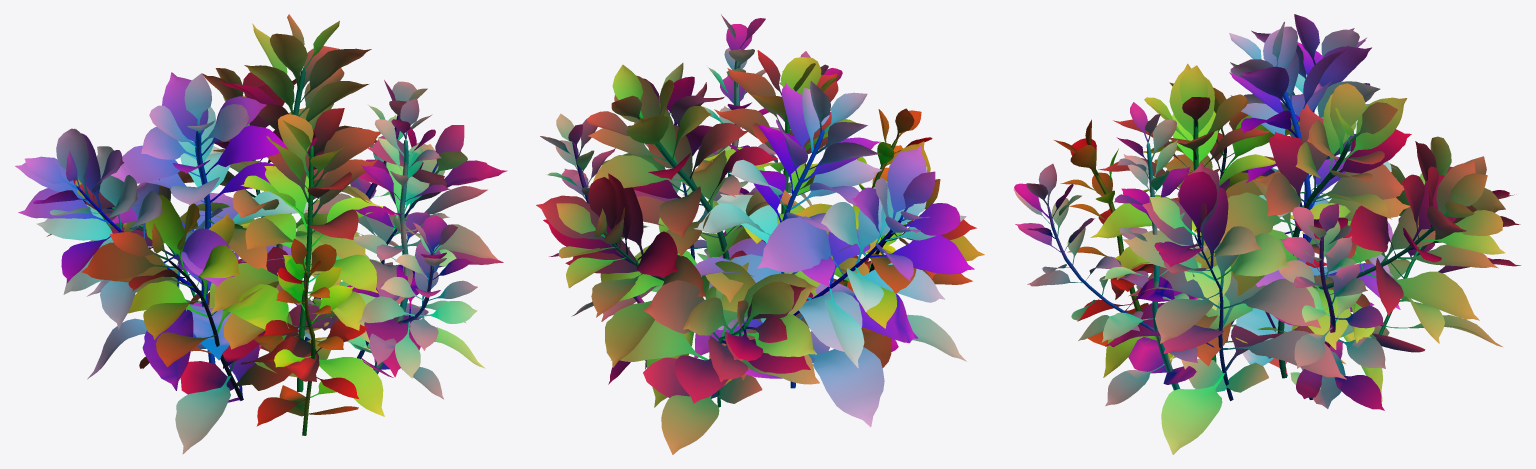
File: Bigleaf_Hydrangea_vgztealha_Mid_vgztealha_VarF_LOD0.fbx
3 renders of one model, left to right at view 1: azimuth 30°, elevation 25°; view 2: azimuth 150°, elevation 25°; view 3: azimuth 270°, elevation 25°, orthographic. The views are drawn at different scales.
Parts seen in each view (by area): view 1: _85dz_VarF_LOD1; view 2: _85dz_VarF_LOD1; view 3: _85dz_VarF_LOD1.
Part boxes in pixels (bbox=[...]): _85dz_VarF_LOD1: bbox=[15, 14, 507, 454]; _85dz_VarF_LOD1: bbox=[536, 14, 984, 454]; _85dz_VarF_LOD1: bbox=[1013, 14, 1520, 454].
Size of the model in its own units: 94.31 by 70.58 by 99.46.
